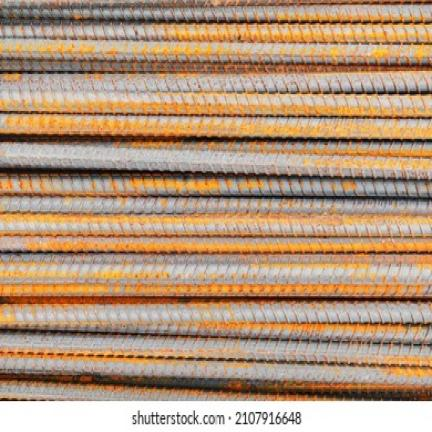karat: (0, 96, 431, 140)
